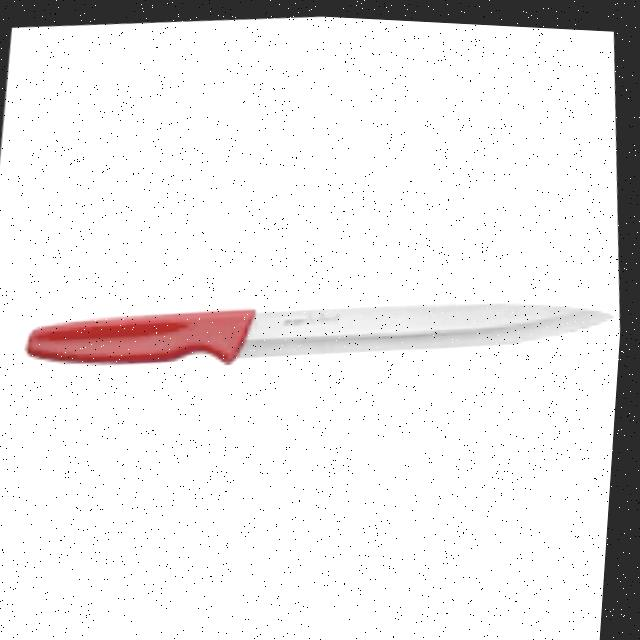knife: (23, 263, 620, 397)
